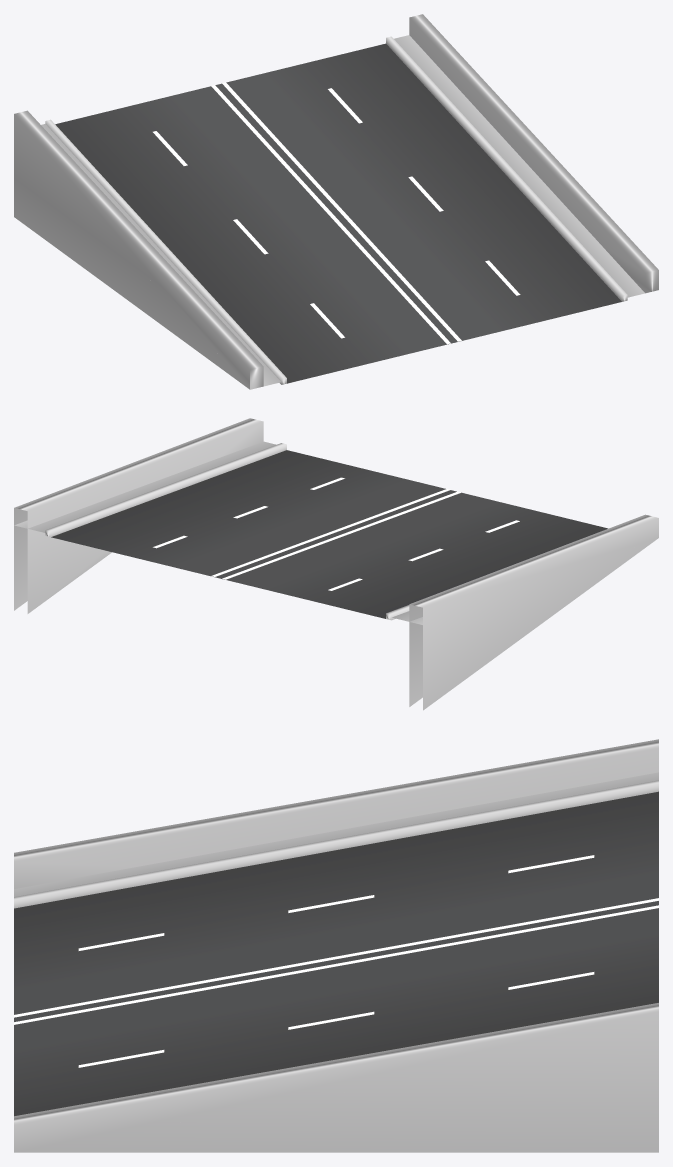
File: road_033.glb
3 renders of one model, top to bottom at view 1: azimuth 30°, elevation 25°; view 2: azimuth 150°, elevation 25°; view 3: azimuth 270°, elevation 25°, orthographic. The views are drawn at different scales.
Visible parts, largest first — view 1: road_033; view 2: road_033; view 3: road_033.
Boxes of the visible parts, x1=… form: road_033: x1=14, y1=14, x2=658, y2=389; road_033: x1=14, y1=418, x2=658, y2=710; road_033: x1=14, y1=739, x2=658, y2=1152.
Bounding box in the file's own units: 15 × 3.72 × 15.
1 material, 1 textured.
